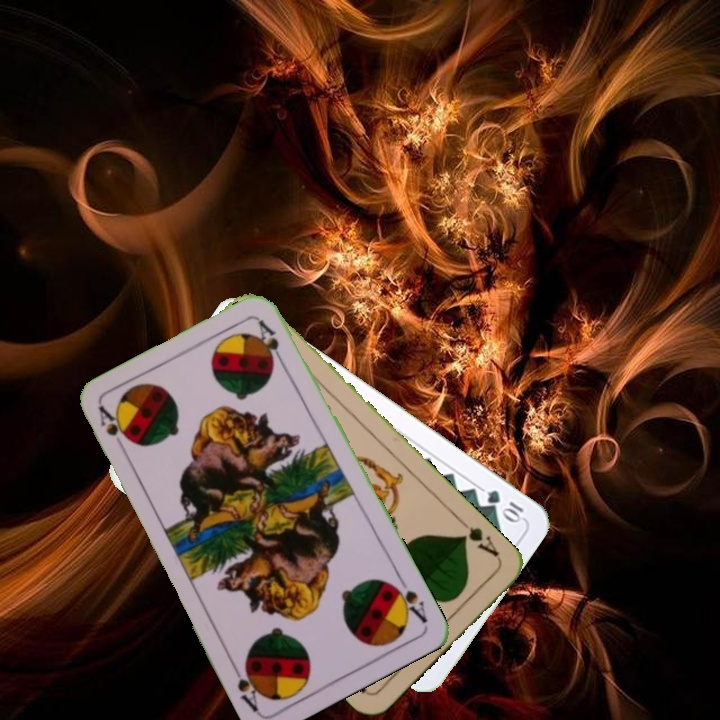G10: (483, 485, 526, 526)
GA: (456, 516, 502, 562)
SA: (386, 572, 431, 626), (94, 402, 130, 456)
